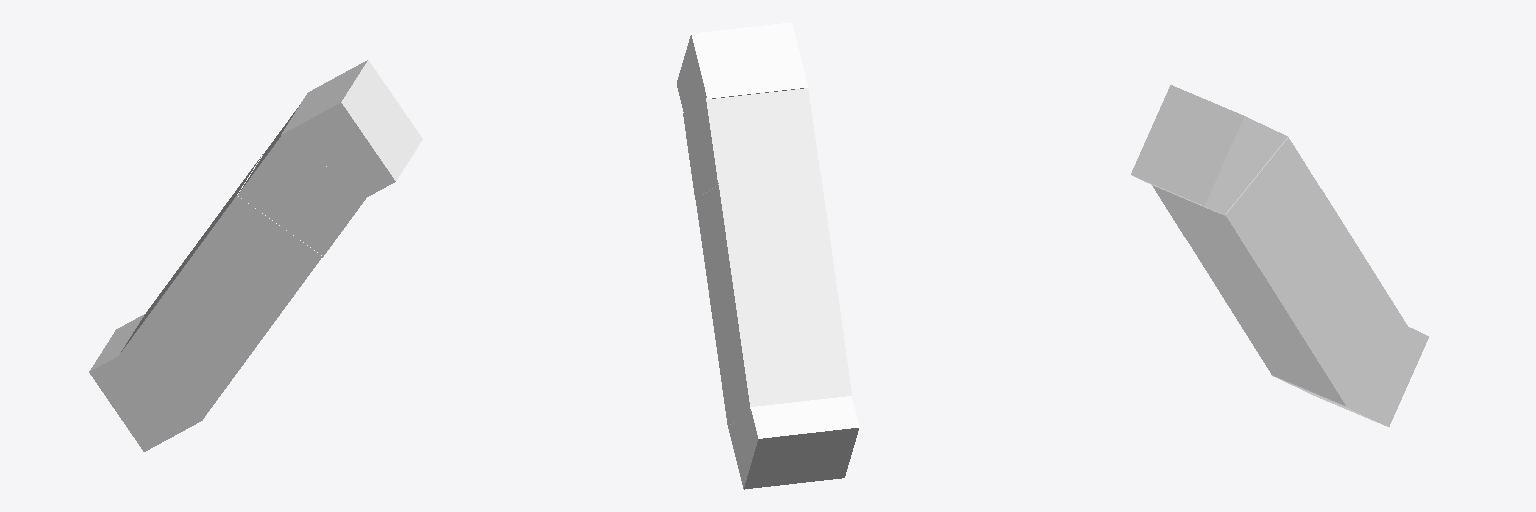
File: thick_diagonal_oak_branch_67_45.obj
The picture shows the model from 3 angles: view 1: azimuth 30°, elevation 25°; view 2: azimuth 150°, elevation 25°; view 3: azimuth 270°, elevation 25°; orthographic projection.
Parts seen in each view (by area): view 1: halfbeam, halfbeam.000, halfbeam.002, halfbeam.001; view 2: halfbeam, halfbeam.002, halfbeam.001, halfbeam.000; view 3: halfbeam, halfbeam.000, halfbeam.002, halfbeam.001.
Part boxes in pixels (bbox=[...]): halfbeam: bbox=[116, 152, 322, 419]; halfbeam.000: bbox=[281, 60, 422, 196]; halfbeam.002: bbox=[237, 105, 367, 257]; halfbeam.001: bbox=[89, 314, 207, 451]; halfbeam: bbox=[696, 171, 852, 425]; halfbeam.002: bbox=[683, 88, 819, 199]; halfbeam.001: bbox=[728, 396, 859, 489]; halfbeam.000: bbox=[677, 22, 807, 111]; halfbeam: bbox=[1185, 190, 1409, 406]; halfbeam.000: bbox=[1131, 85, 1287, 215]; halfbeam.002: bbox=[1152, 137, 1321, 267]; halfbeam.001: bbox=[1272, 327, 1428, 426].
Bounding box in the file's own units: 1.06 × 1.46 × 1.06.